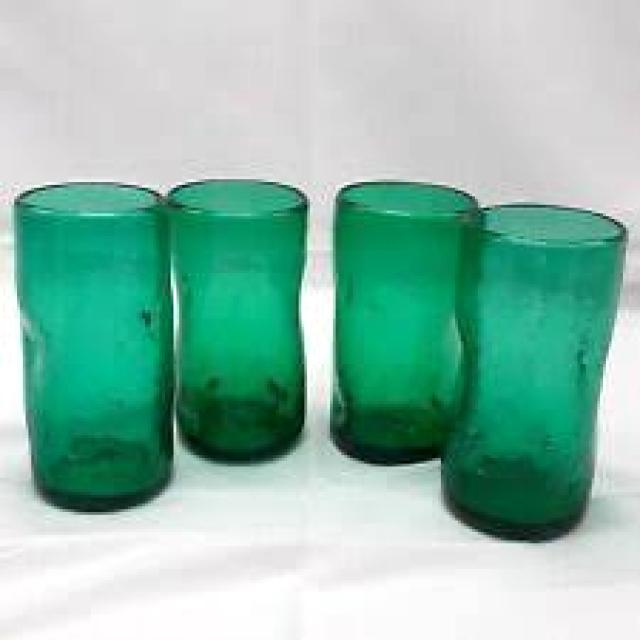Glass: (441, 203, 630, 546), (9, 178, 179, 514), (328, 177, 476, 472), (166, 173, 312, 465)
